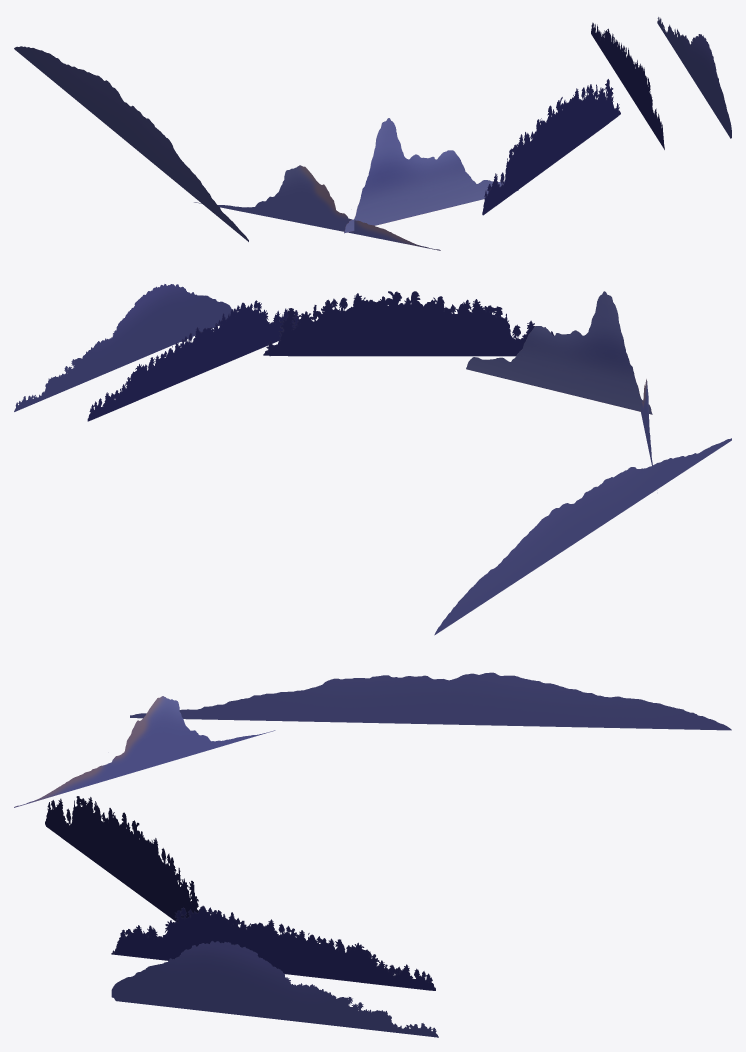
The model's file is Ht_yuanjing_01.fbx.
The picture shows the model from 3 angles, top to bottom: view 1: azimuth 30°, elevation 25°; view 2: azimuth 150°, elevation 25°; view 3: azimuth 270°, elevation 25°; orthographic projection. The views are drawn at different scales.
Parts seen in each view (by area): view 1: yuanjing_03, yuanjing_01, yuanjing_04, yuanjing_02, yuanjing_06, yuanjing_05; view 2: yuanjing_04, yuanjing_03, yuanjing_01, yuanjing_06, yuanjing_05; view 3: yuanjing_01, yuanjing_06, yuanjing_05, yuanjing_04, yuanjing_02.
Boxes of the visible parts, x1,y1,x2,y2 form: yuanjing_03: (344,118,518,233); yuanjing_01: (14,46,248,241); yuanjing_04: (482,79,620,215); yuanjing_02: (194,165,440,250); yuanjing_06: (657,17,731,138); yuanjing_05: (591,22,664,149); yuanjing_04: (263,291,553,356); yuanjing_03: (466,291,652,414); yuanjing_01: (434,438,731,635); yuanjing_06: (14,284,231,411); yuanjing_05: (87,300,298,421); yuanjing_01: (130,672,731,730); yuanjing_06: (111,941,438,1037); yuanjing_05: (111,905,435,990); yuanjing_04: (45,796,198,922); yuanjing_02: (14,696,275,807).
Size of the model in its own units: 51782 by 10268 by 50729.
